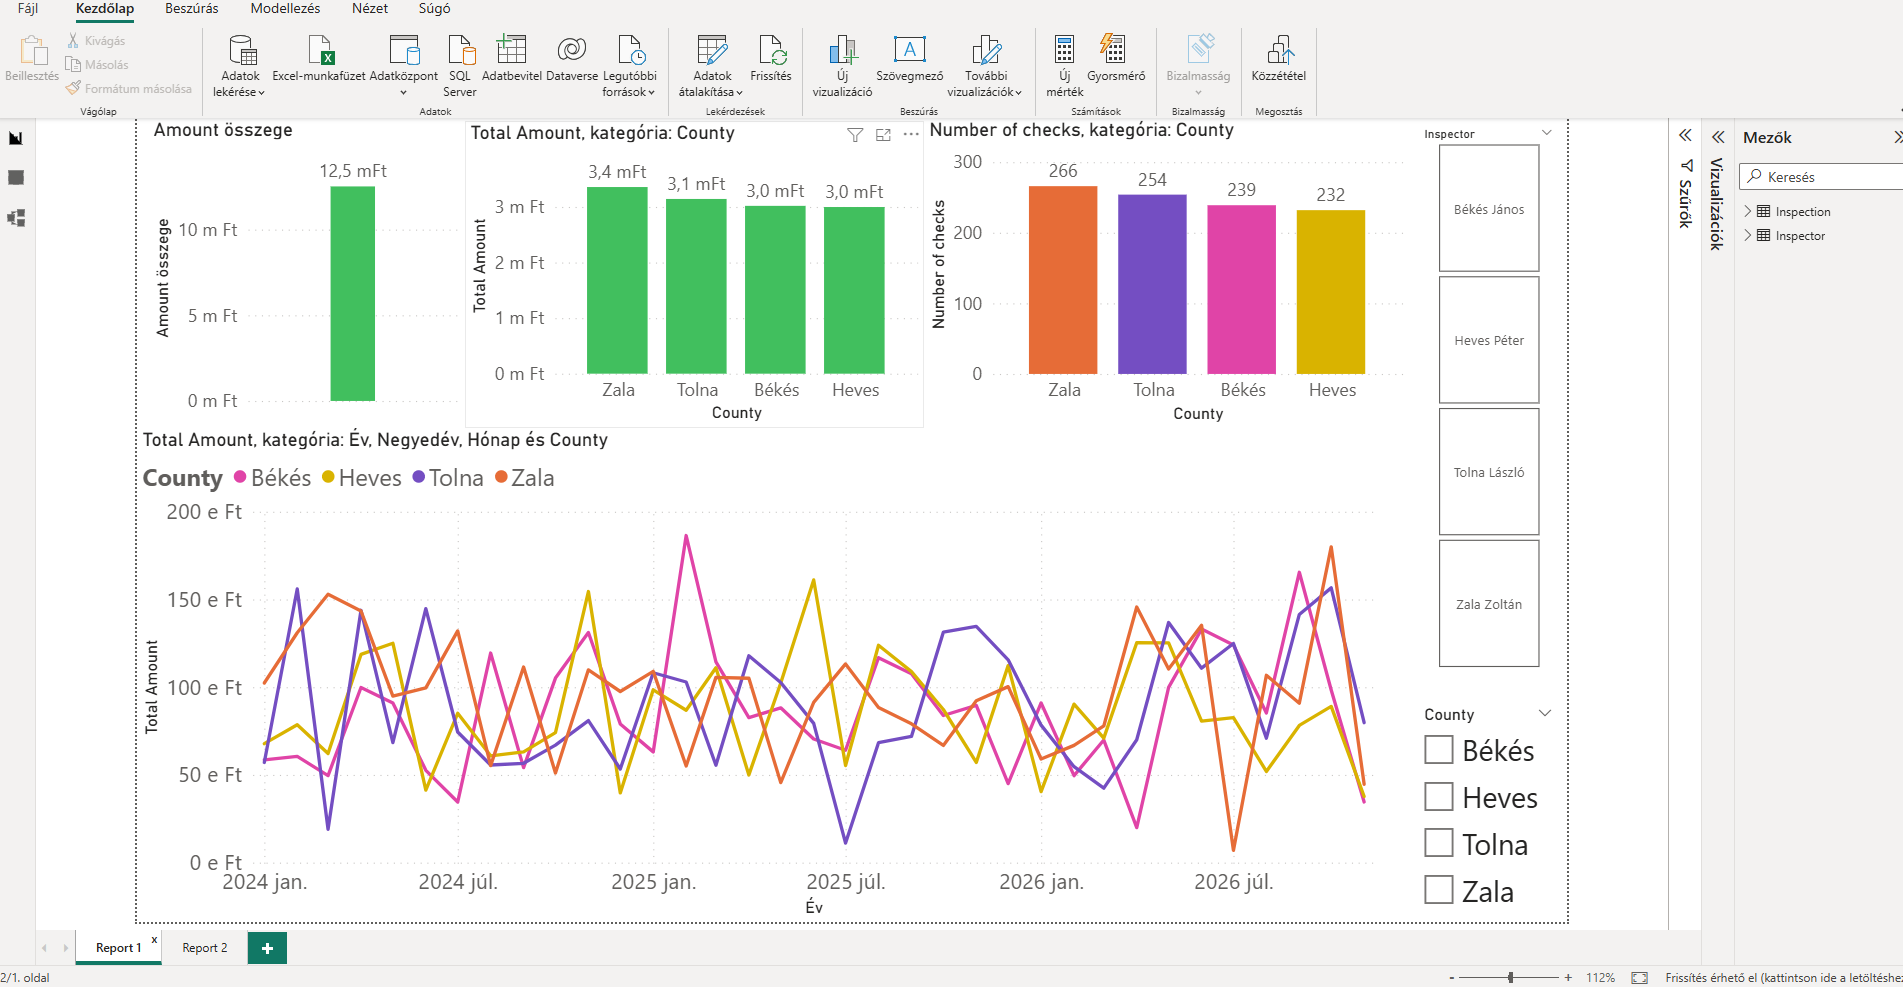

The dashboard page shown, as its layout file describes it:
{"tool":"powerbi","page":{"name":"Report 1","canvas":[1280,720],"ordinal":0},"visuals":[{"type":"clusteredColumnChart","fields":{"Y":["Sum(Inspection.Amount)"]},"box":[9.7,0,284,270.4],"z":0},{"type":"clusteredColumnChart","fields":{"Category":["Inspector.County"],"Y":["Inspection.Total Amount"]},"box":[293.7,2.9,411.4,274.3],"z":1000},{"type":"clusteredColumnChart","fields":{"Category":["Inspector.County"],"Y":["Inspection.Number of checks"]},"box":[705.2,0,434.8,277.2],"z":2000},{"type":"lineChart","fields":{"Y":["Inspection.Total Amount"],"Category":["Inspection.Date.Változat.Dátumhierarchia.Év","Inspection.Date.Változat.Dátumhierarchia.Negyedév","Inspection.Date.Változat.Dátumhierarchia.Hónap","Inspection.Date.Változat.Dátumhierarchia.Nap"],"Series":["Inspector.County"]},"box":[0,277.2,1139.9,442.6],"z":3000},{"type":"slicer","fields":{"Values":["Inspector.Inspector"]},"box":[1139.9,2.9,140.1,496],"z":4000},{"type":"slicer","fields":{"Values":["Inspector.County"]},"box":[1139.9,521.3,140.1,198.4],"z":5000}]}

Visuals, with their boxes on the page's 1280x720 design canvas (x1, y1, x2, y2). These are canvas units, not pixel positions in the 1903x987 screenshot, which may show the page scaled, cropped or inside an application window:
clusteredColumnChart - Sum(Inspection.Amount): <box>10,0,294,270</box>
clusteredColumnChart - Inspector.County x Inspection.Total Amount: <box>294,3,705,277</box>
clusteredColumnChart - Inspector.County x Inspection.Number of checks: <box>705,0,1140,277</box>
lineChart - Inspection.Total Amount x Inspection.Date.Változat.Dátumhierarchia.Év: <box>0,277,1140,720</box>
slicer - Inspector.Inspector: <box>1140,3,1280,499</box>
slicer - Inspector.County: <box>1140,521,1280,720</box>
